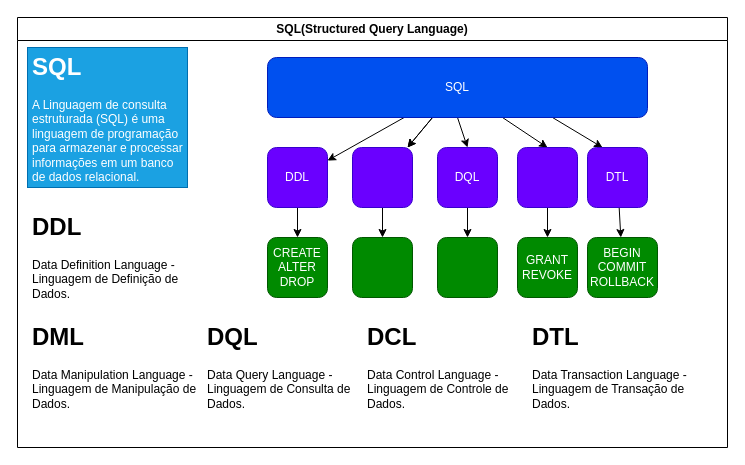
Some shapes in this 745 by 465 pixel diagram are drawn without their labels. The shapes that lost their labels are listed below. From the top down, each one's box as (x1, y1, x2, y2) in pixels, then its label:
(352, 146, 412, 208): DML
(516, 146, 578, 208): DCL
(352, 236, 412, 298): INSERT UPDATE DELETE
(436, 236, 498, 298): SELECT
